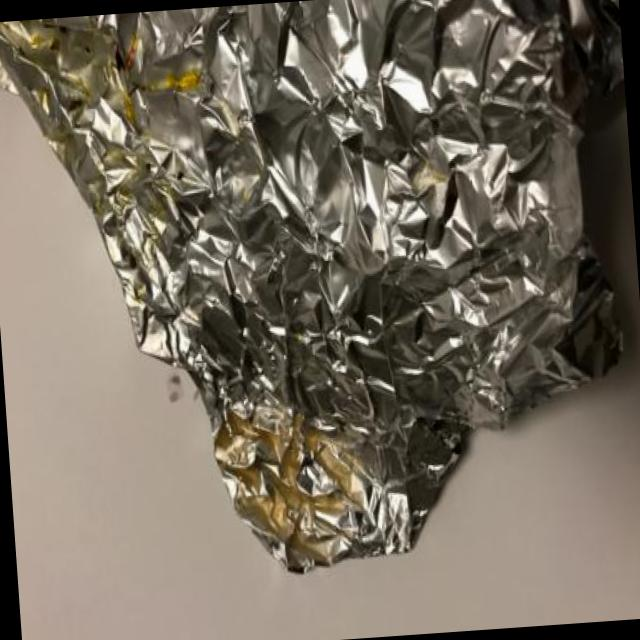kim_loai: (0, 0, 624, 574)
